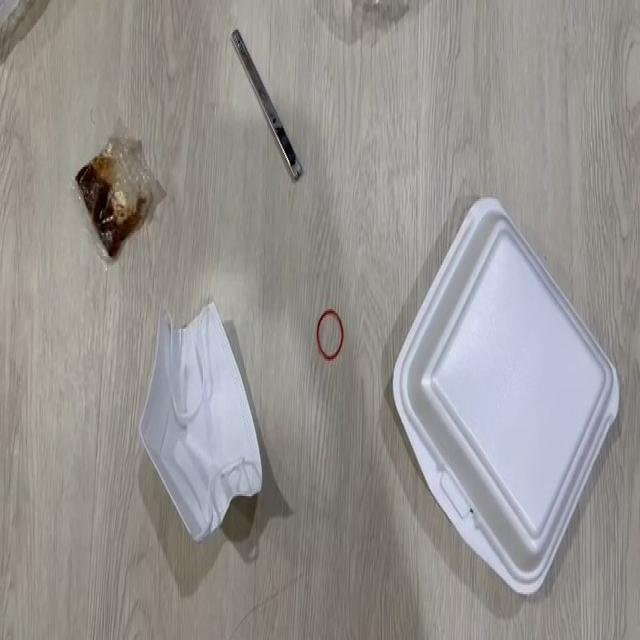Anorganik: (365, 187, 624, 592), (213, 18, 312, 182), (308, 302, 348, 362)
B3: (115, 288, 275, 546), (67, 104, 169, 268)
